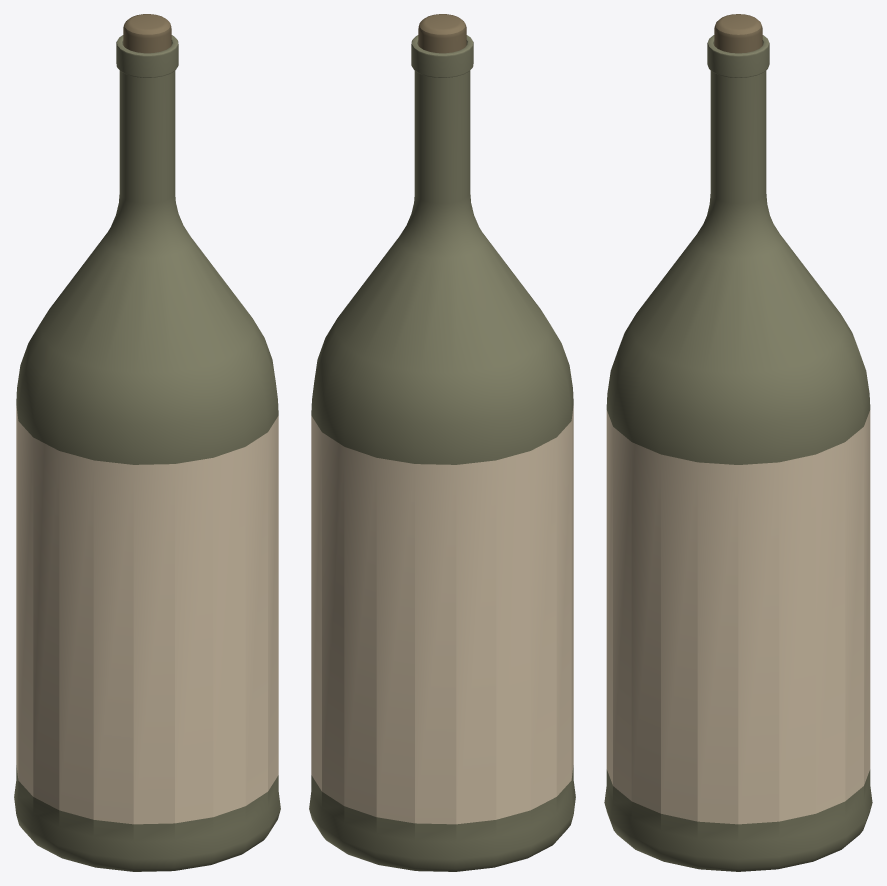
File: yellow_glass_bottle.fbx
3 renders of one model, left to right at view 1: azimuth 30°, elevation 25°; view 2: azimuth 150°, elevation 25°; view 3: azimuth 270°, elevation 25°, orthographic.
Parts seen in each view (by area): view 1: bottle; view 2: bottle; view 3: bottle.
Part boxes in pixels (box(x1,y1,x2,y2)): bottle: box(14, 14, 280, 871); bottle: box(309, 14, 575, 871); bottle: box(604, 14, 872, 871).
Size of the model in its own units: 2.03 by 6.69 by 2.03.
